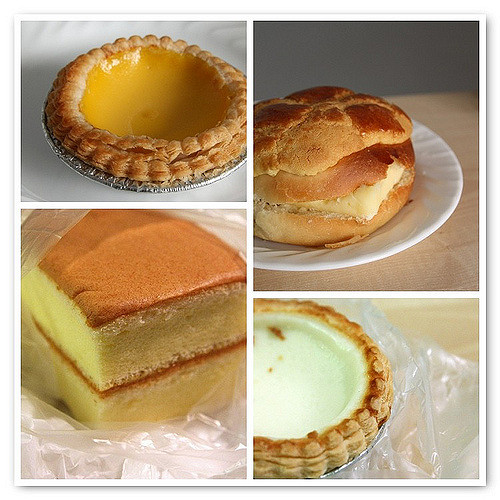slice of bread: (31, 259, 241, 414)
